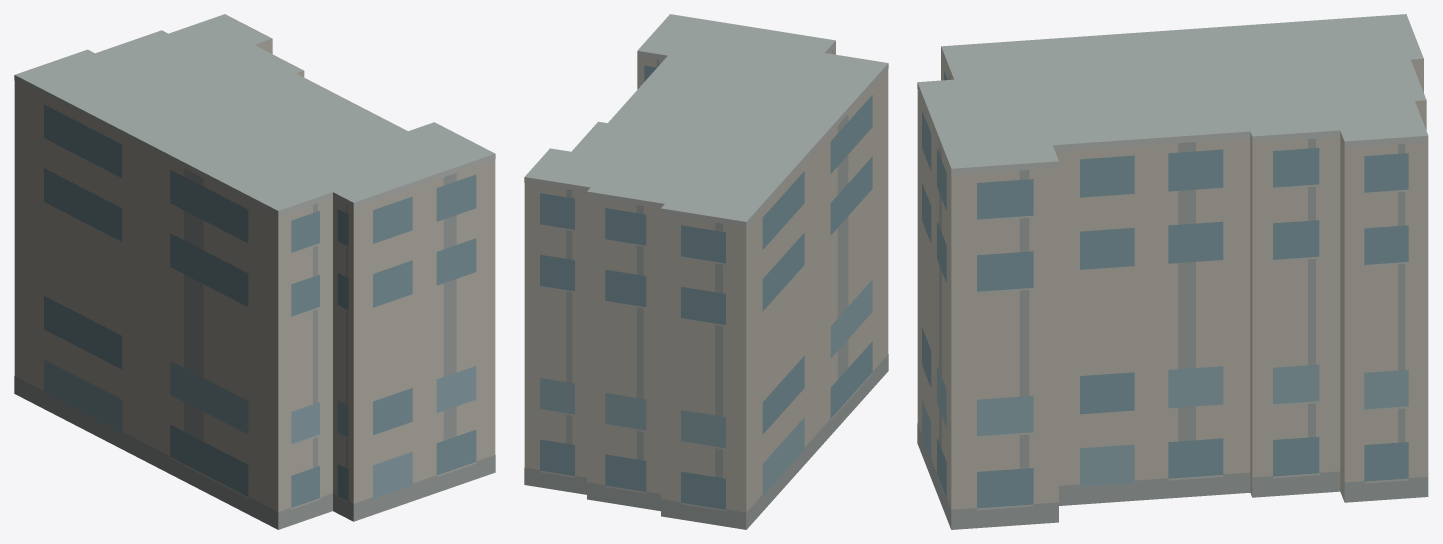
Rendered from survey-upis-32628881.glb.
3 views of the same model, side by side, from view 1: azimuth 30°, elevation 25°; view 2: azimuth 150°, elevation 25°; view 3: azimuth 270°, elevation 25° (orthographic). The views are drawn at different scales.
Visible parts, largest first — view 1: survey-upis-32628881.tmp; view 2: survey-upis-32628881.tmp; view 3: survey-upis-32628881.tmp.
Boxes of the visible parts, <box> form: survey-upis-32628881.tmp: <box>14,14,495,529</box>; survey-upis-32628881.tmp: <box>524,14,888,529</box>; survey-upis-32628881.tmp: <box>917,14,1428,529</box>.
Bounding box in the file's own units: 12.37 × 13.45 × 17.26.
